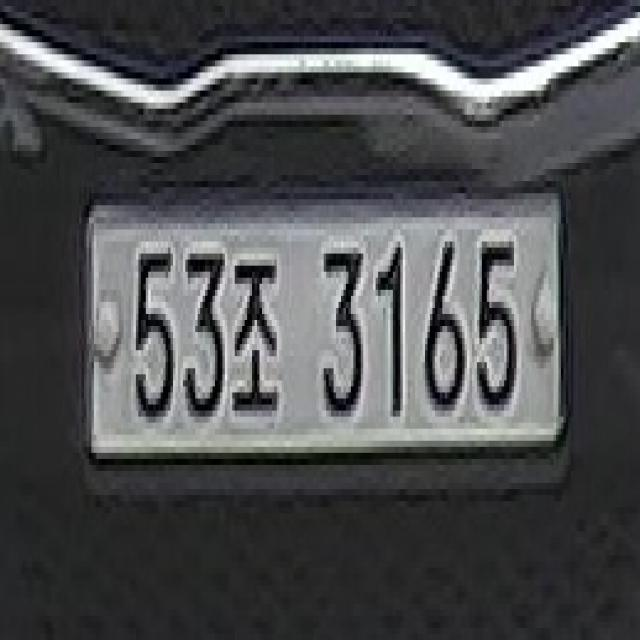1: (368, 211, 415, 441)
3: (314, 236, 368, 428), (180, 235, 228, 441)
5: (469, 223, 522, 429), (128, 235, 180, 441)
6: (415, 205, 475, 429)
jo: (227, 223, 294, 429)
license_plate: (77, 187, 573, 483)
